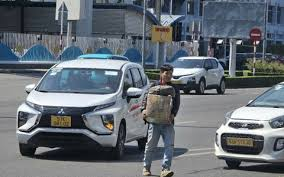Bien-so: (227, 136, 254, 145), (51, 116, 71, 127)
